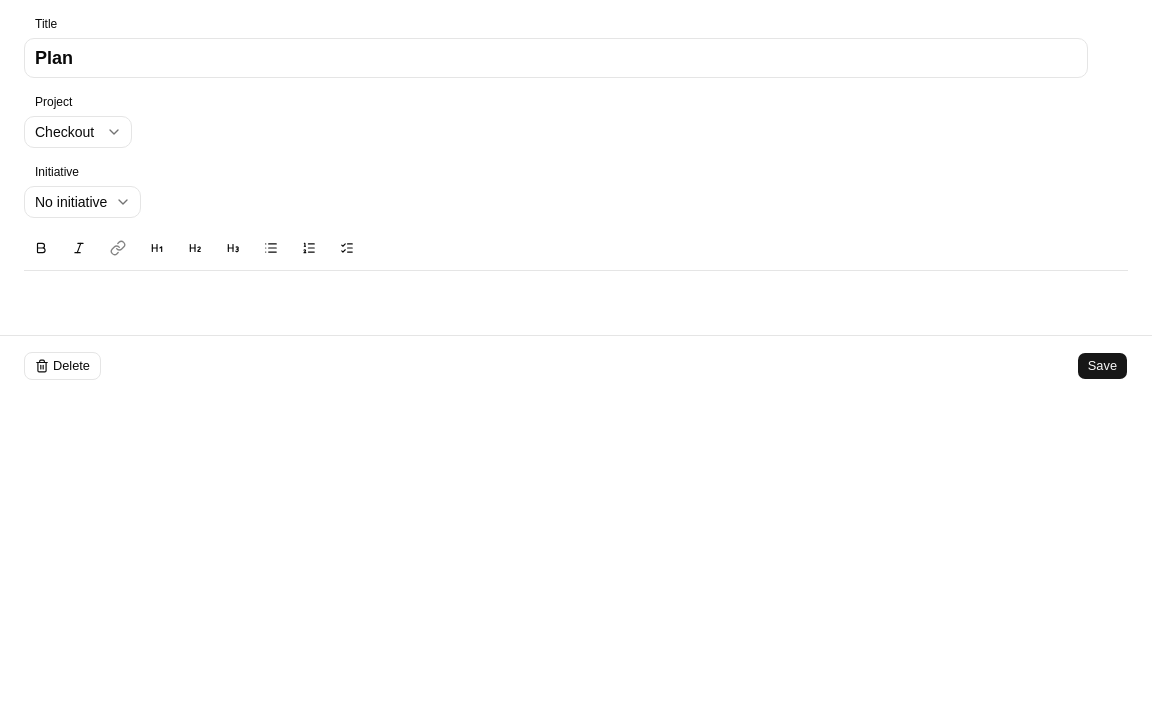
Test: TaskForm › puts the select back and shows a toast when the project cannot be saved
Select "Billing" in the dropdown labelled "Project" at (78, 132), box [24,116,132,148]
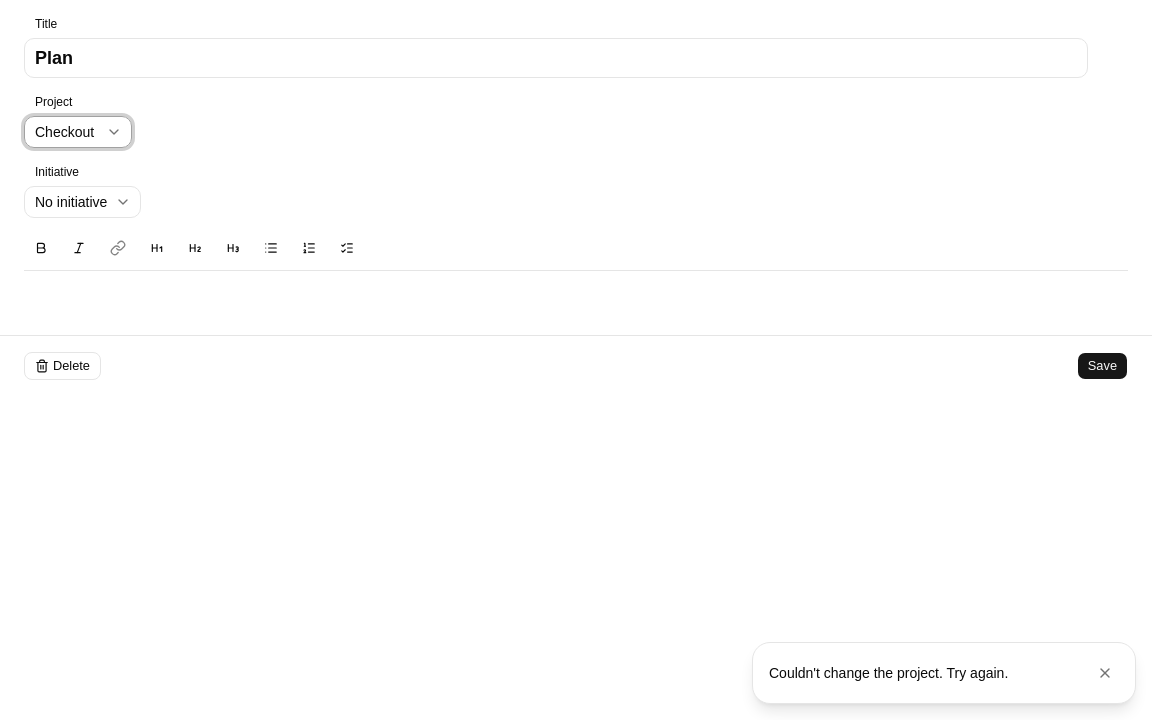
Expected: the heading "Couldn't change the project. Try again." is shown, [769,665,1008,681]
